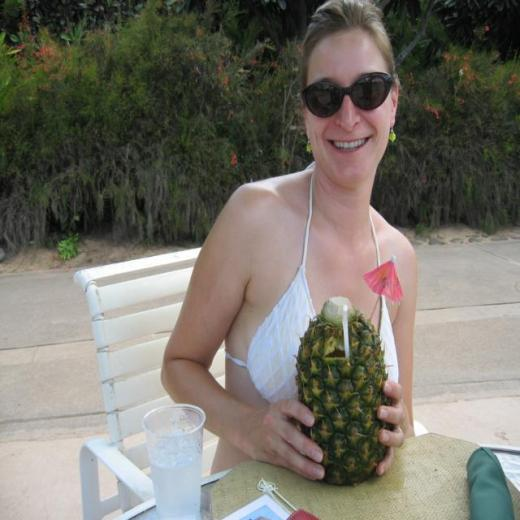Mango: (292, 295, 392, 487)
